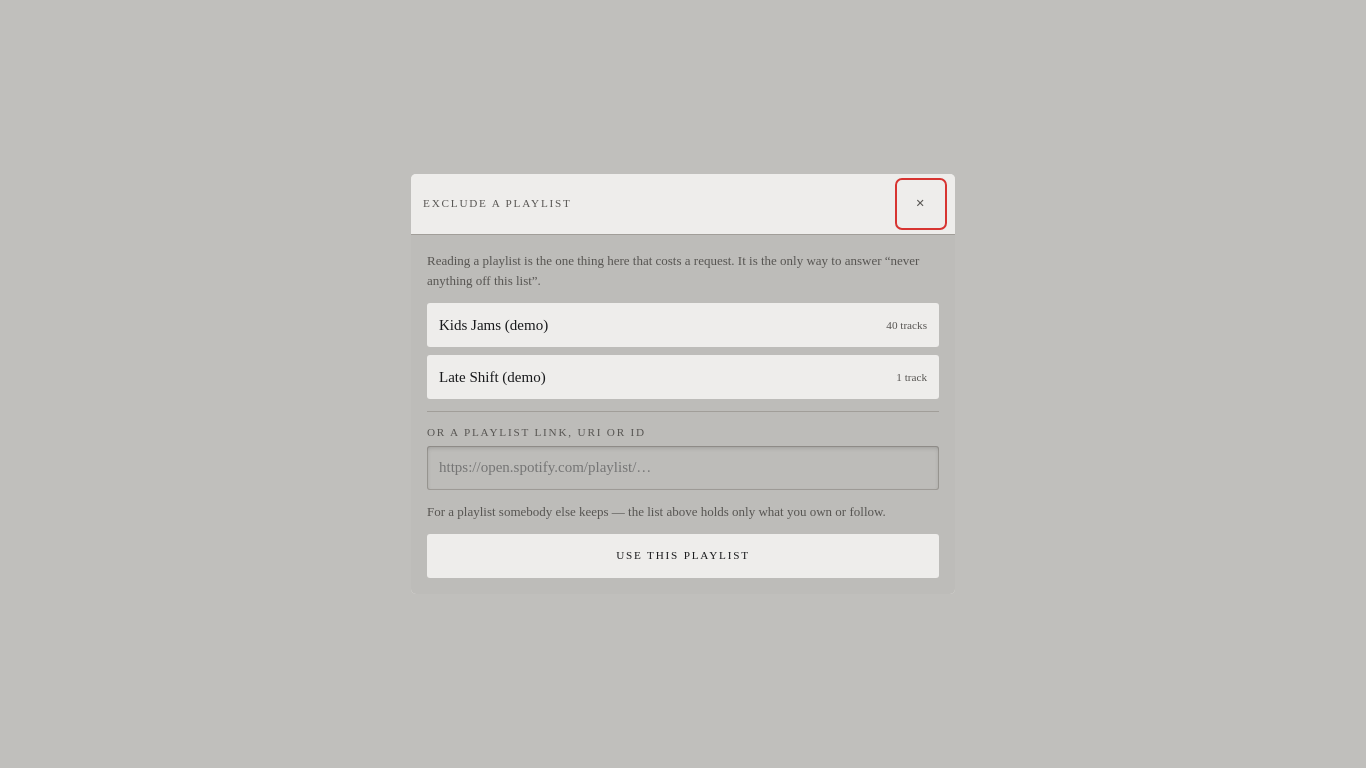
Test case: the playlist picker still takes a link › reports a reference it could not read
Type "nonsense" into the field labelled "Or a playlist link, URI or id". click: x=683, y=468
box: [427,446,939,490]
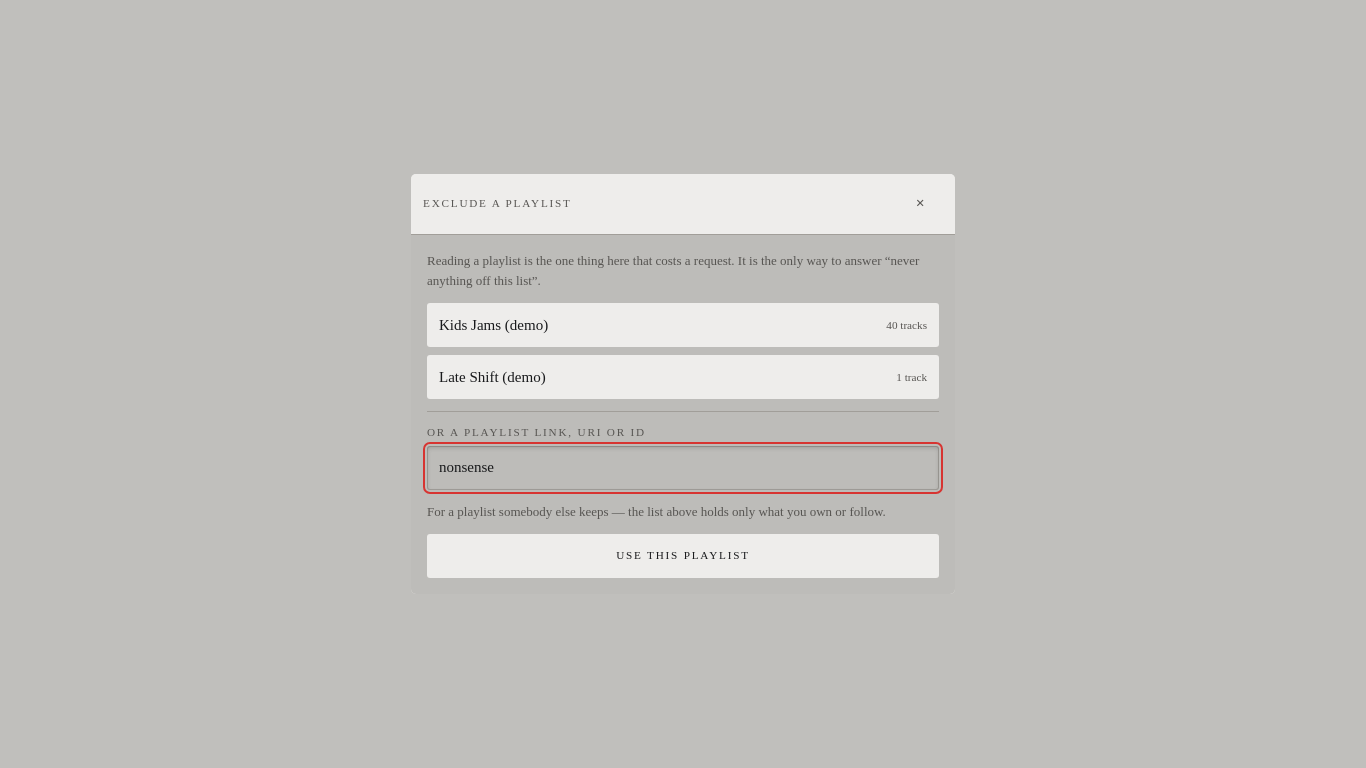
Click the button "Use this playlist". click: x=683, y=556
box: [427,534,939,578]
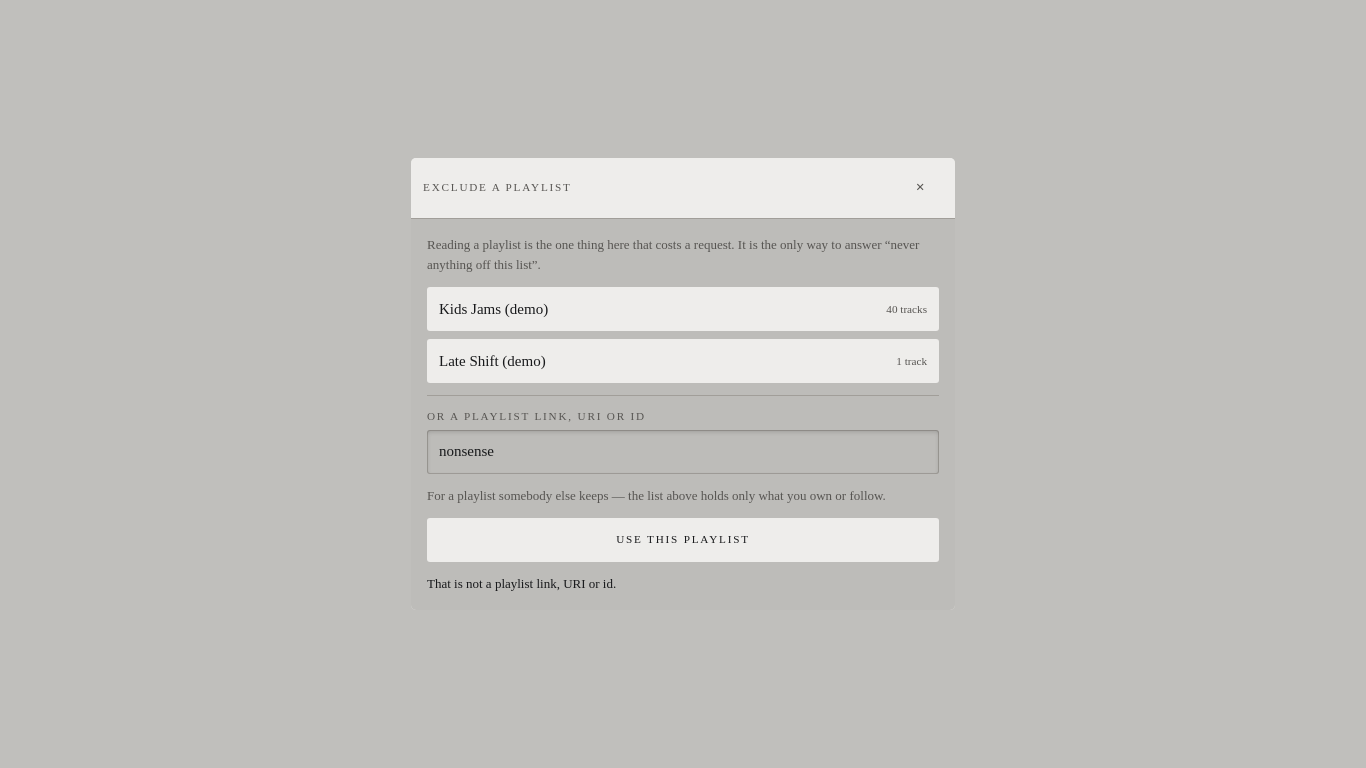
Check: the message shows "That is not a playlist link", box [427,576,616,591]
